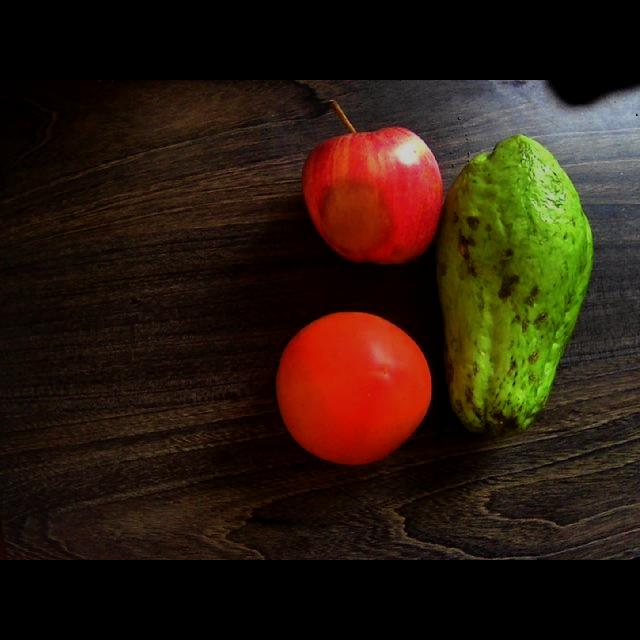chayote: (435, 135, 593, 433)
manzana: (302, 101, 443, 263)
tomate: (277, 312, 430, 465)
